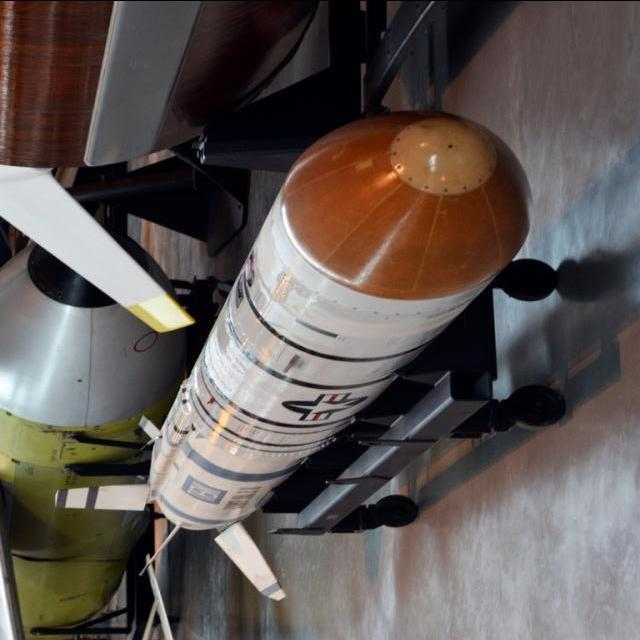missile: (140, 107, 549, 531)
